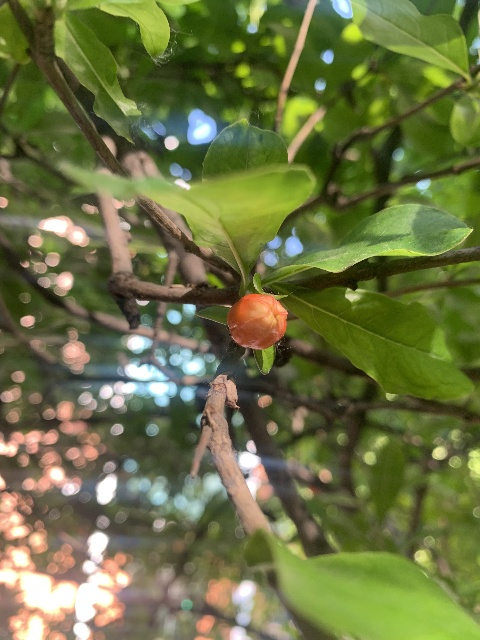bud: (227, 293, 287, 349)
